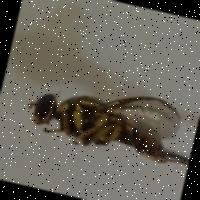Oriental-fruit-fly: (11, 60, 190, 188)
